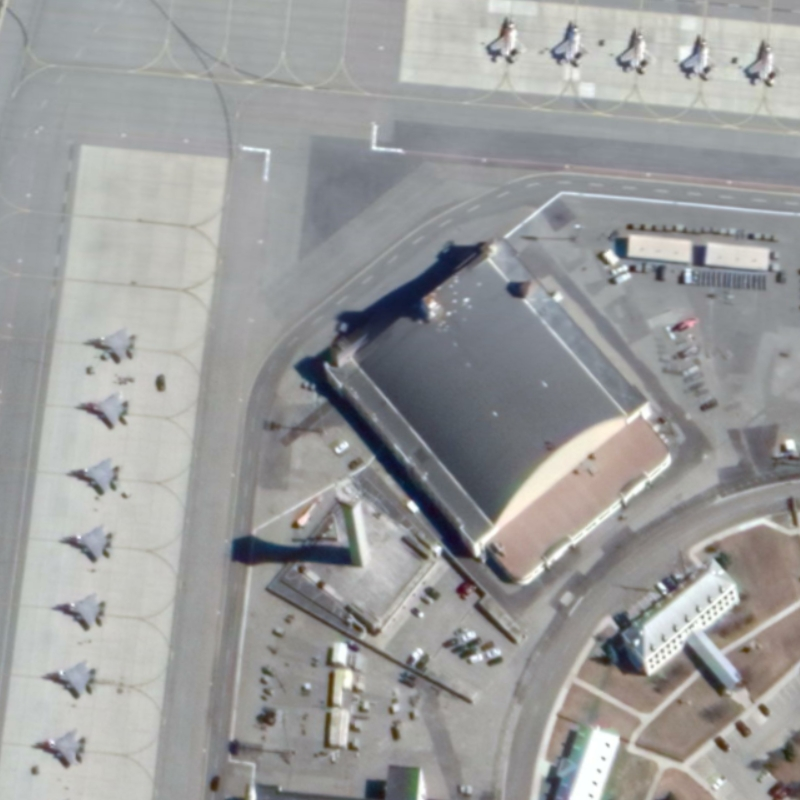A13: (38, 655, 99, 701), (33, 722, 89, 770), (72, 388, 134, 431), (49, 589, 110, 632), (57, 522, 117, 564), (64, 455, 122, 497), (81, 326, 140, 366)
A15: (485, 10, 530, 65), (741, 33, 786, 88), (615, 22, 658, 77), (678, 28, 719, 83), (551, 17, 591, 69)
